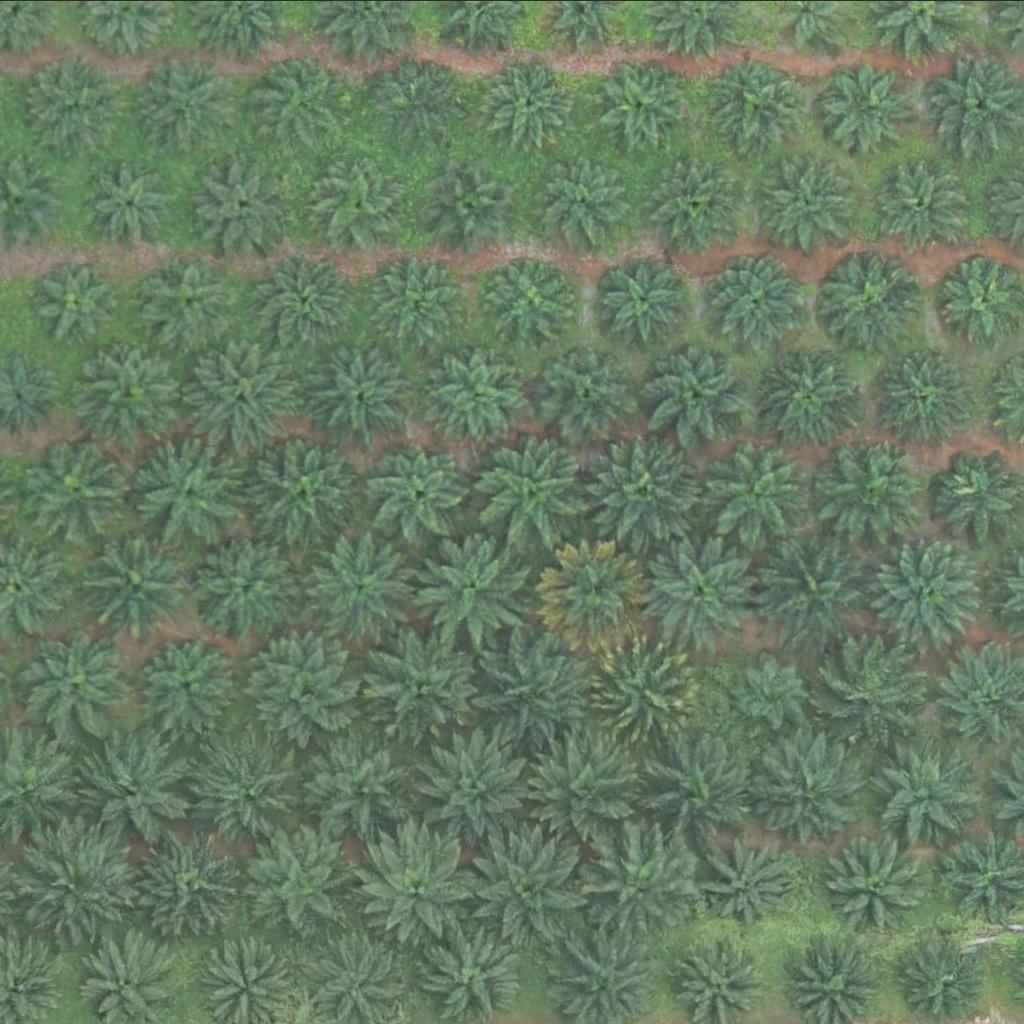Kelapa_Sawit: (878, 535, 992, 648), (18, 824, 131, 937), (135, 823, 248, 936), (80, 730, 193, 843), (191, 736, 304, 849), (306, 728, 419, 841), (246, 628, 359, 741), (360, 625, 473, 738), (478, 626, 591, 739), (133, 435, 246, 548), (185, 337, 298, 450), (305, 334, 418, 447), (706, 433, 819, 546), (539, 537, 652, 650), (588, 635, 701, 748), (640, 535, 753, 648), (758, 538, 871, 651), (475, 829, 589, 941), (645, 735, 759, 847), (748, 731, 862, 843), (581, 826, 695, 938), (244, 829, 357, 941), (365, 830, 478, 942), (417, 727, 530, 839), (20, 624, 133, 736), (86, 522, 199, 634), (192, 529, 305, 641), (311, 529, 424, 641), (417, 532, 530, 644), (251, 429, 364, 541), (475, 428, 588, 540), (588, 435, 701, 547), (532, 738, 645, 850), (137, 630, 238, 730), (371, 440, 472, 540), (366, 248, 467, 348), (18, 53, 119, 153), (139, 48, 240, 148), (593, 53, 694, 153), (709, 52, 810, 152), (529, 147, 630, 247), (646, 150, 747, 250), (755, 151, 856, 251), (872, 152, 973, 252), (706, 251, 807, 351), (819, 246, 920, 346), (537, 341, 638, 441), (646, 343, 747, 443), (762, 345, 863, 445), (872, 343, 973, 443), (816, 435, 917, 535), (877, 744, 978, 844), (826, 835, 927, 935), (425, 923, 525, 1023), (21, 438, 121, 538), (81, 340, 181, 440), (139, 252, 239, 352), (187, 154, 287, 254), (248, 45, 348, 145), (368, 46, 468, 146), (821, 639, 921, 739), (88, 158, 176, 246), (310, 159, 398, 247), (429, 156, 517, 244), (485, 56, 573, 144), (435, 348, 523, 435), (259, 253, 347, 340), (821, 62, 909, 149), (488, 257, 576, 344), (603, 254, 691, 341), (704, 838, 792, 925), (36, 261, 112, 336), (732, 655, 808, 730)
